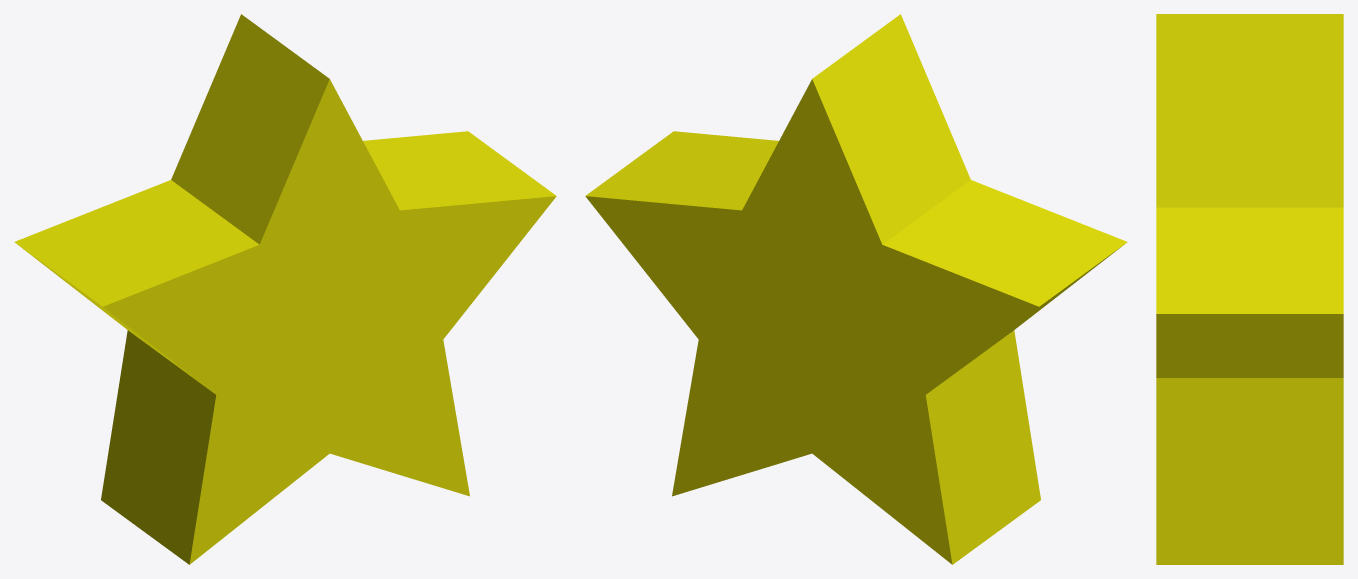
File: star.fbx
The picture shows the model from 3 angles, left to right: view 1: azimuth 30°, elevation 25°; view 2: azimuth 150°, elevation 25°; view 3: azimuth 270°, elevation 25°; orthographic projection. The views are drawn at different scales.
Parts seen in each view (by area): view 1: Group_001; view 2: Group_001; view 3: Group_001.
Boxes of the visible parts, x1,y1,x2,y2 form: Group_001: (14,14,556,564); Group_001: (585,14,1127,564); Group_001: (1156,14,1343,564).
Bounding box in the file's own units: 0.9905 × 0.942 × 0.3348.
